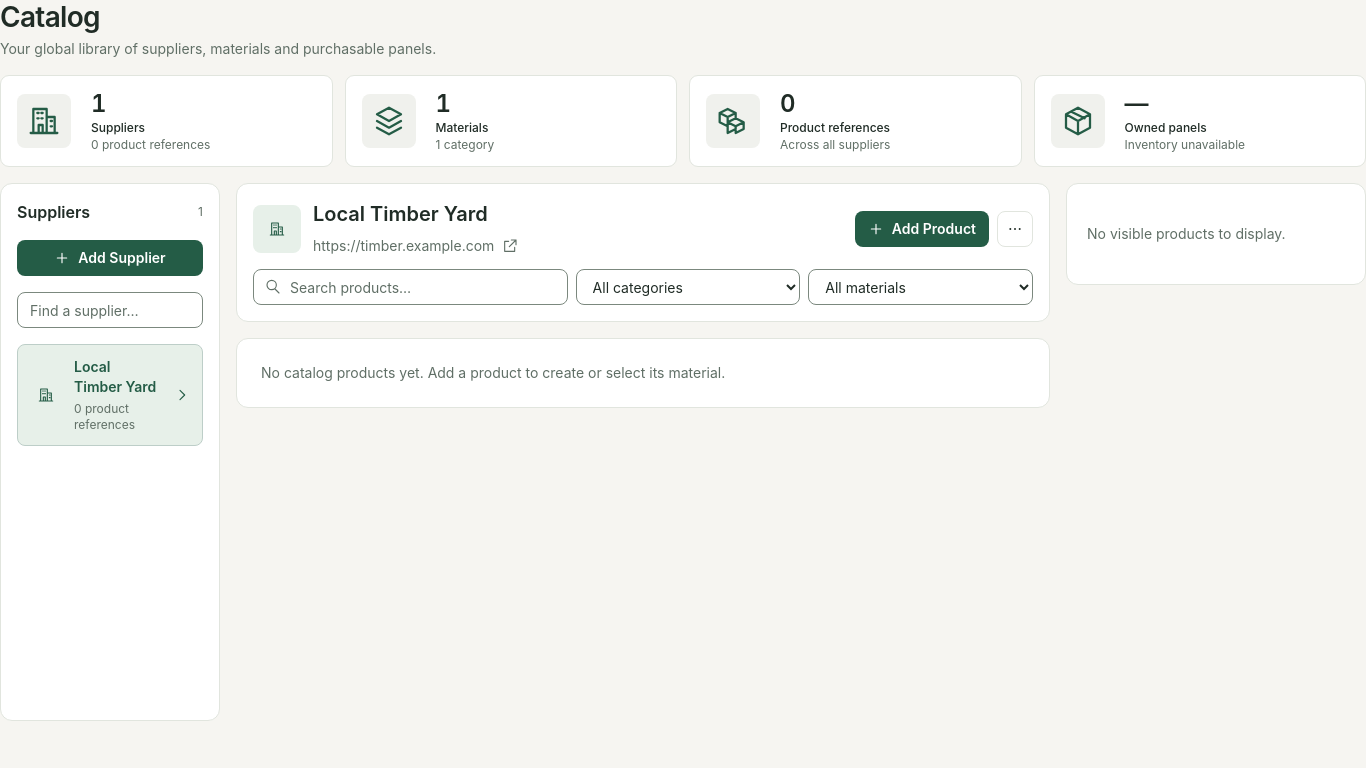
Test: SuppliersView › keeps required fields and linked errors accessible in the sectioned product editor
Click the button "Add Product". click: (922, 228)
box: [855,210,989,246]
(page scrolled)
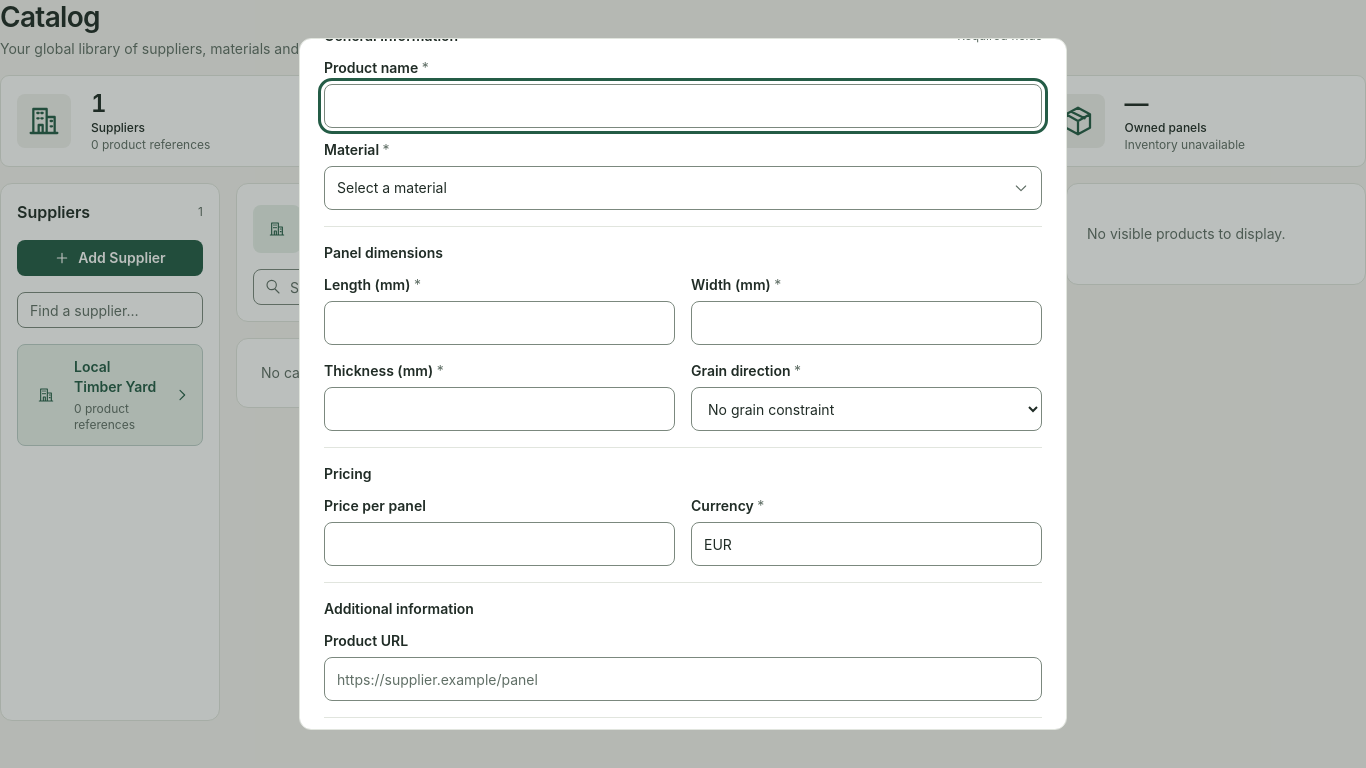
Now the field labelled "Currency *" holds "EUR", box [691,522,1042,566]
Submit the form
(page scrolled)
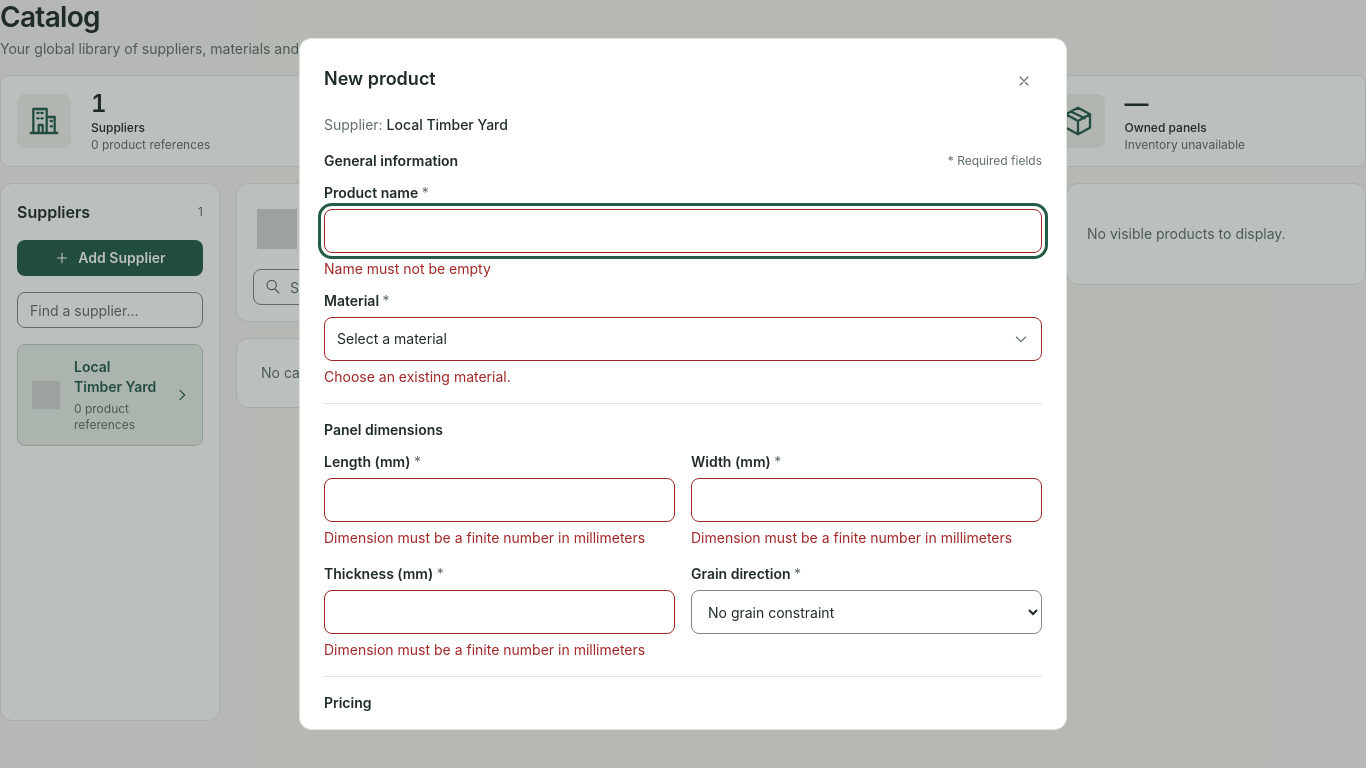
Now the number field labelled "Length (mm) *" is marked as invalid, box [324,478,675,522]
Now the number field labelled "Width (mm) *" is marked as invalid, box [691,478,1042,522]
Now the number field labelled "Thickness (mm) *" is marked as invalid, box [324,590,675,634]
Click the button named "Close form". click: (1024, 81)
box: [1006,63,1042,99]
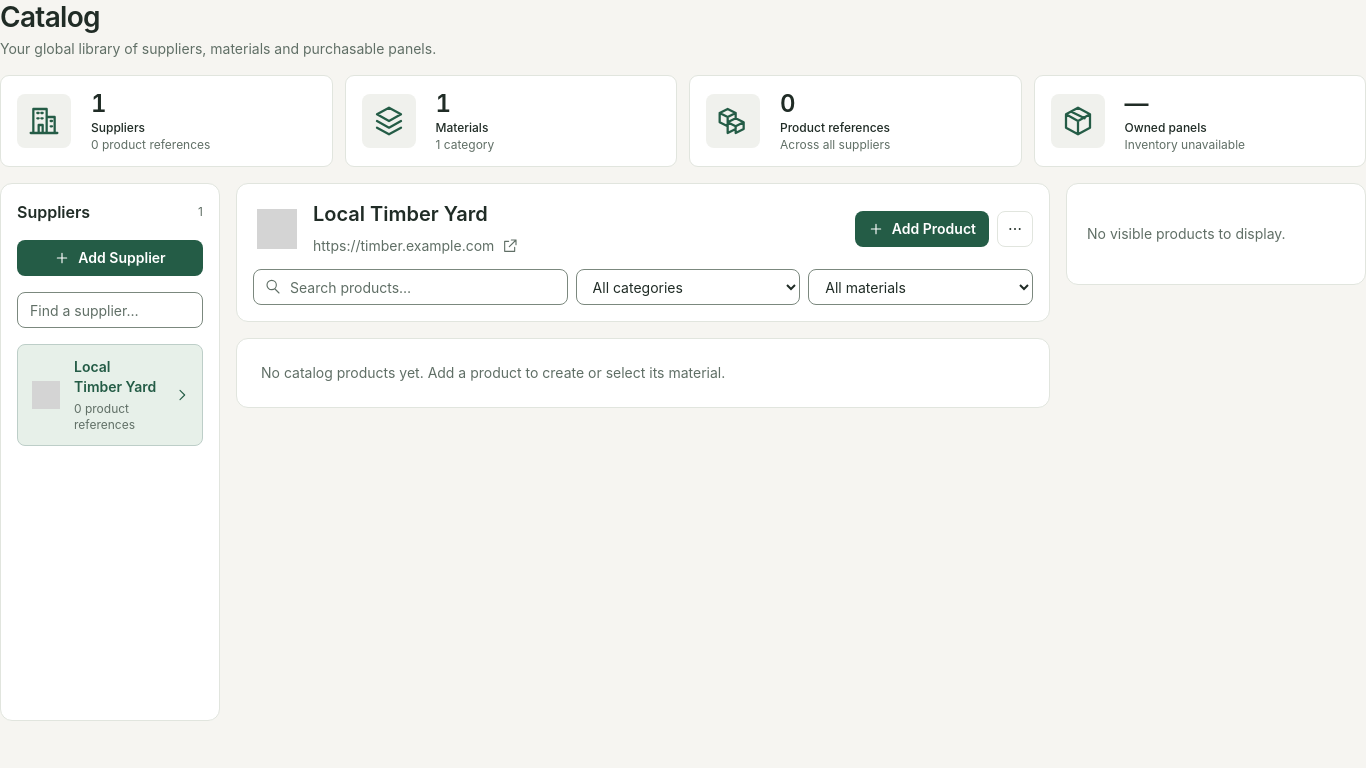
Click the button "Add Supplier". click: (110, 258)
box: [17,240,203,276]
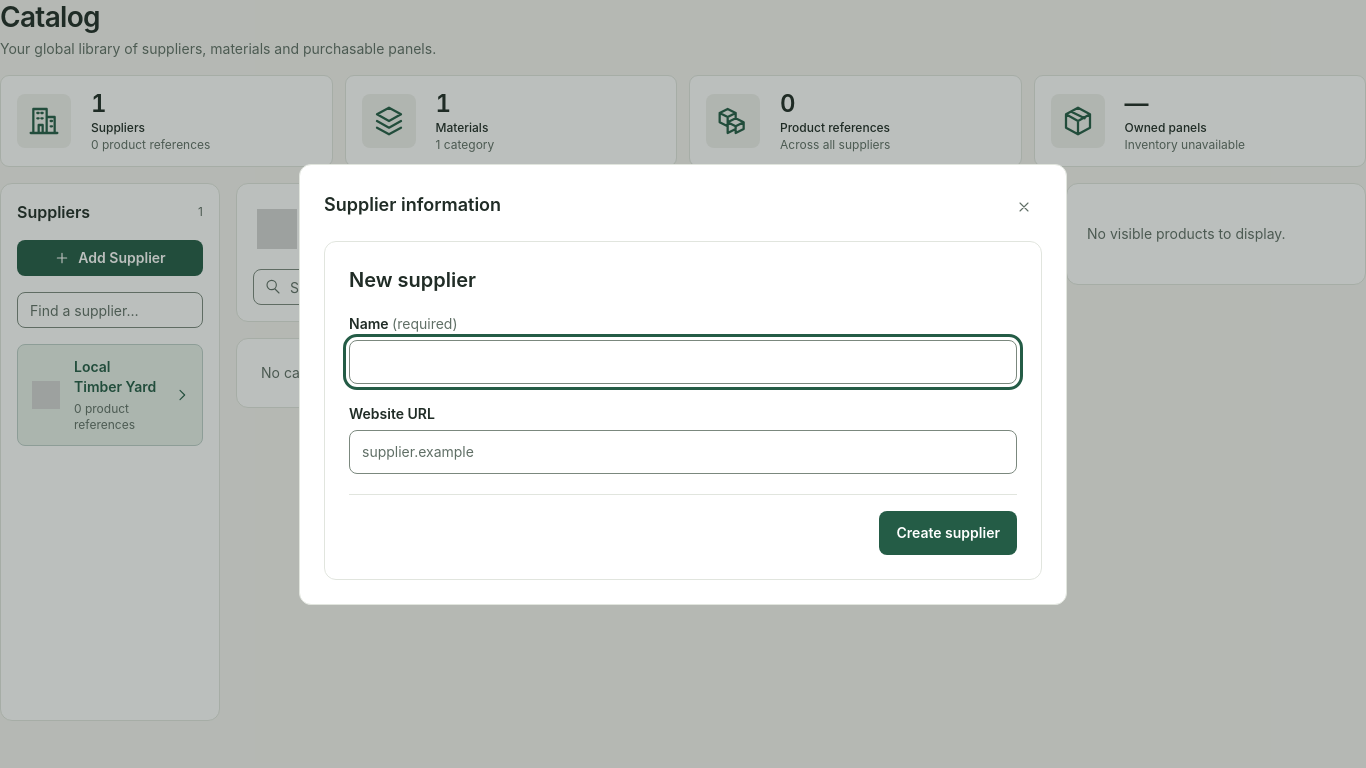
Now the label "Name (required)" is shown, box [349,314,458,332]
